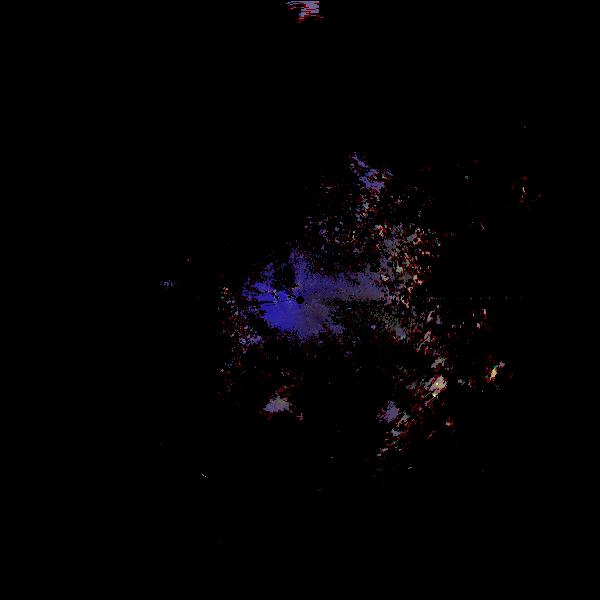roost: (259, 397, 310, 448)
